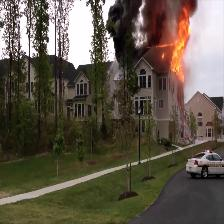fire: (174, 20, 190, 73)
smoke: (115, 1, 138, 61), (145, 0, 166, 45)
